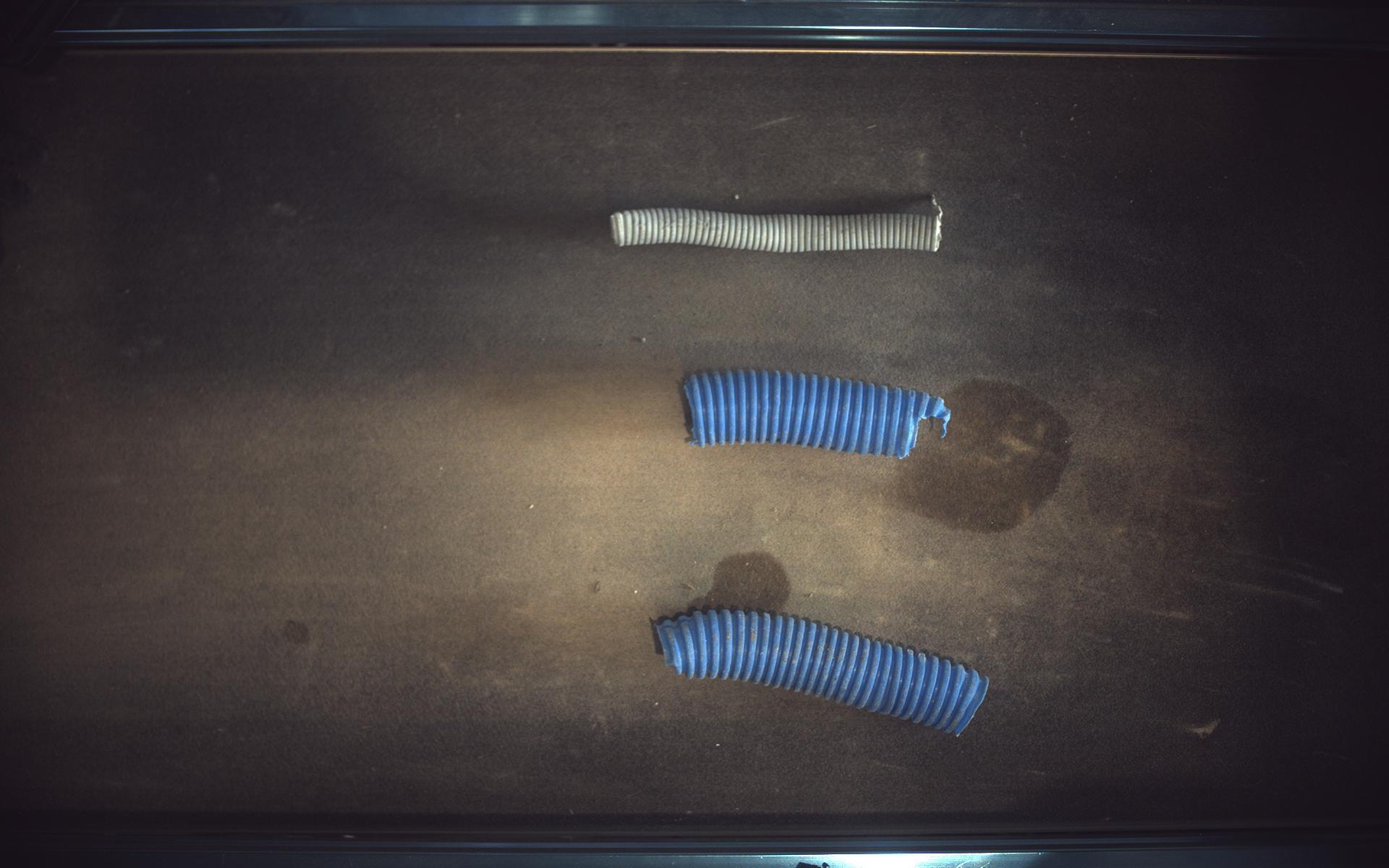pipes: (654, 610, 991, 736), (685, 371, 953, 458), (611, 205, 943, 252)
